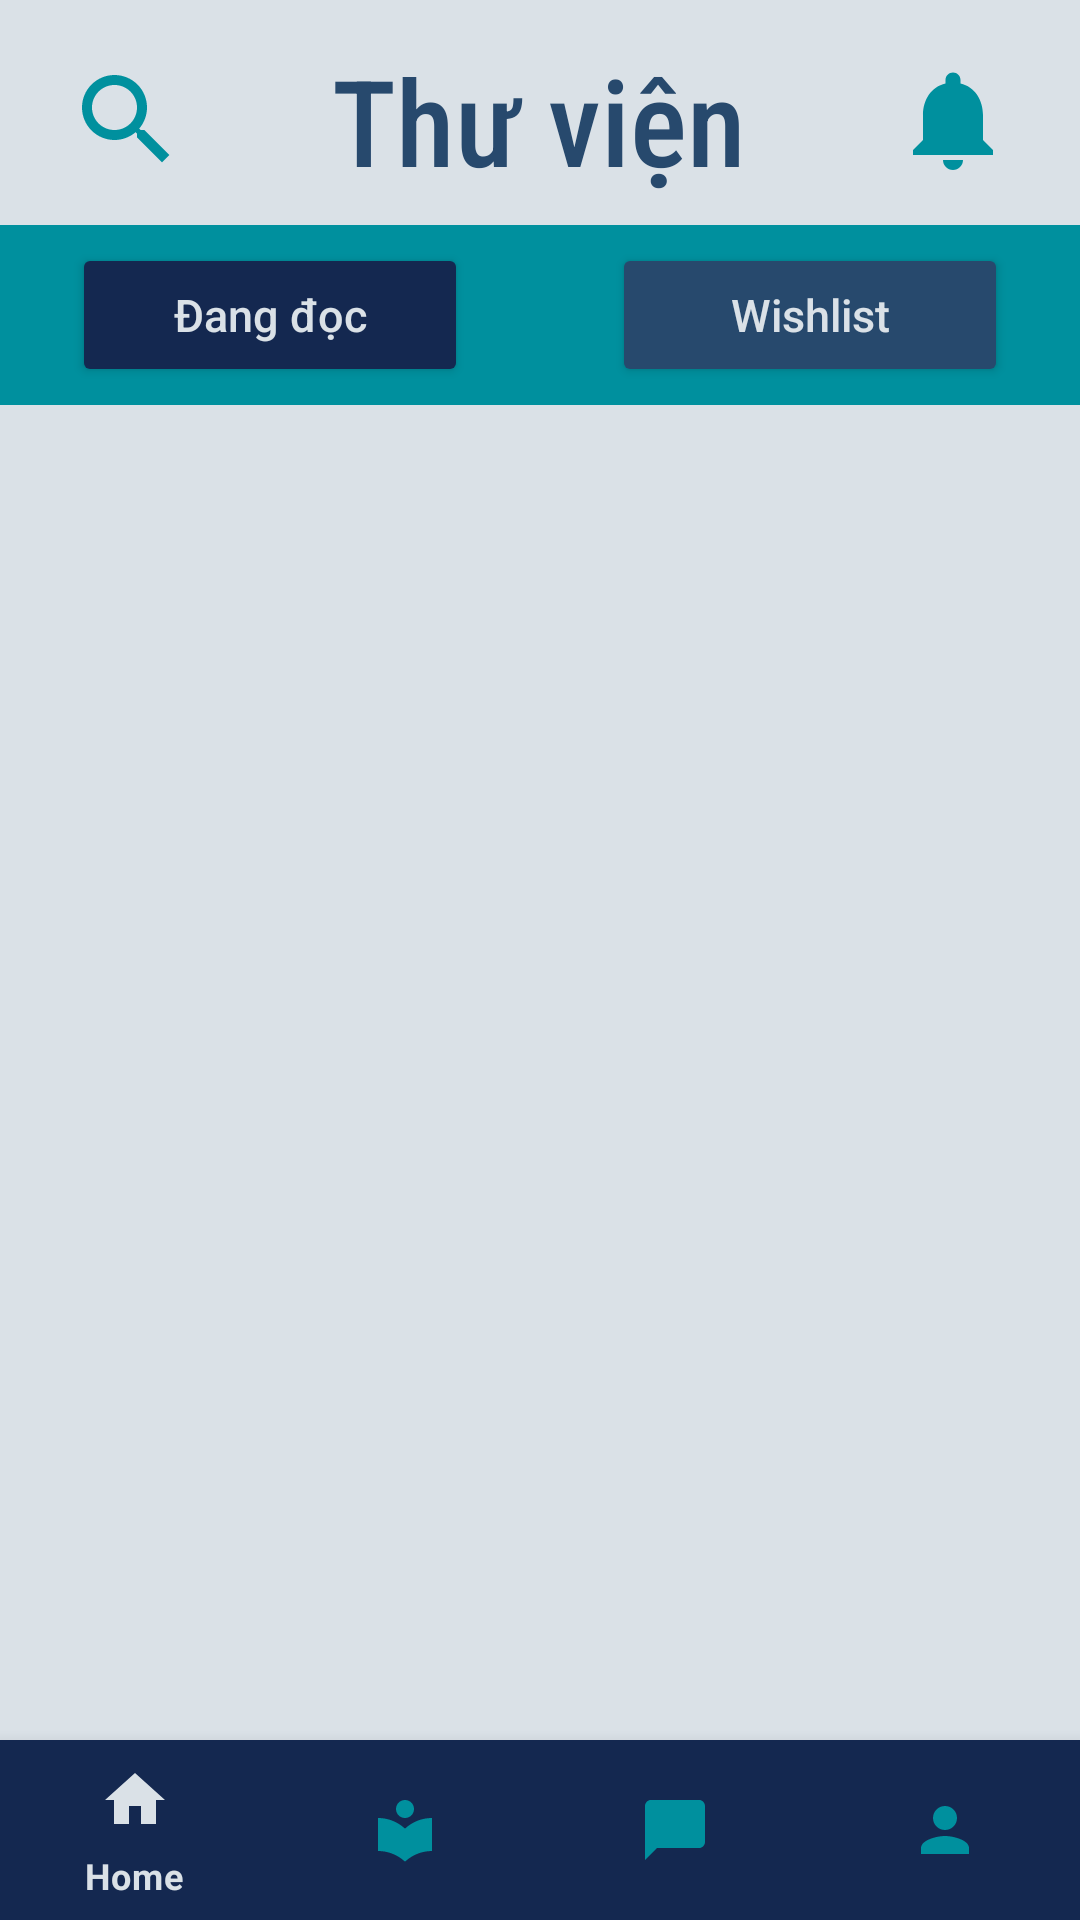

Icons on this 1080px x 1920px Android screen, each with its box as (x1, y1, x2, y2):
notification: (913, 72, 993, 170)
search: (82, 75, 169, 162)
